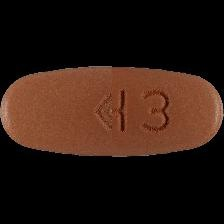42291-887: (0, 0, 224, 224)
